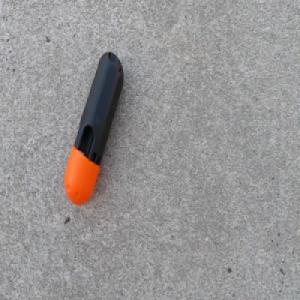PlasticPart: (63, 50, 124, 206)
